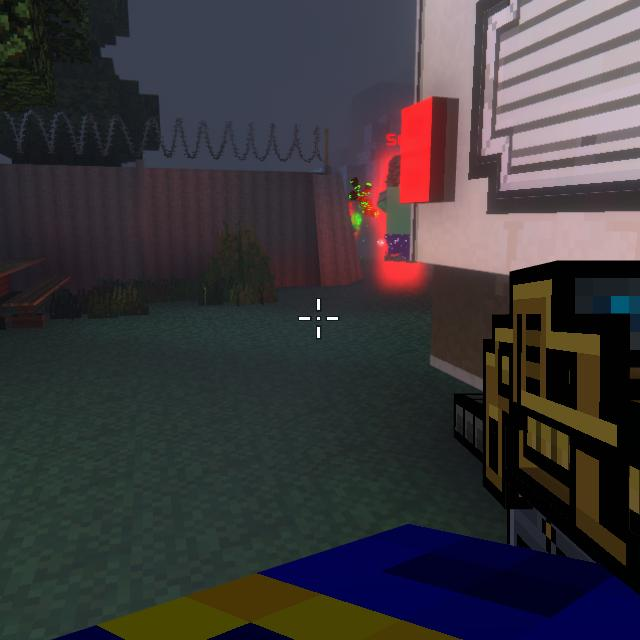Enemy: (373, 158, 414, 263)
